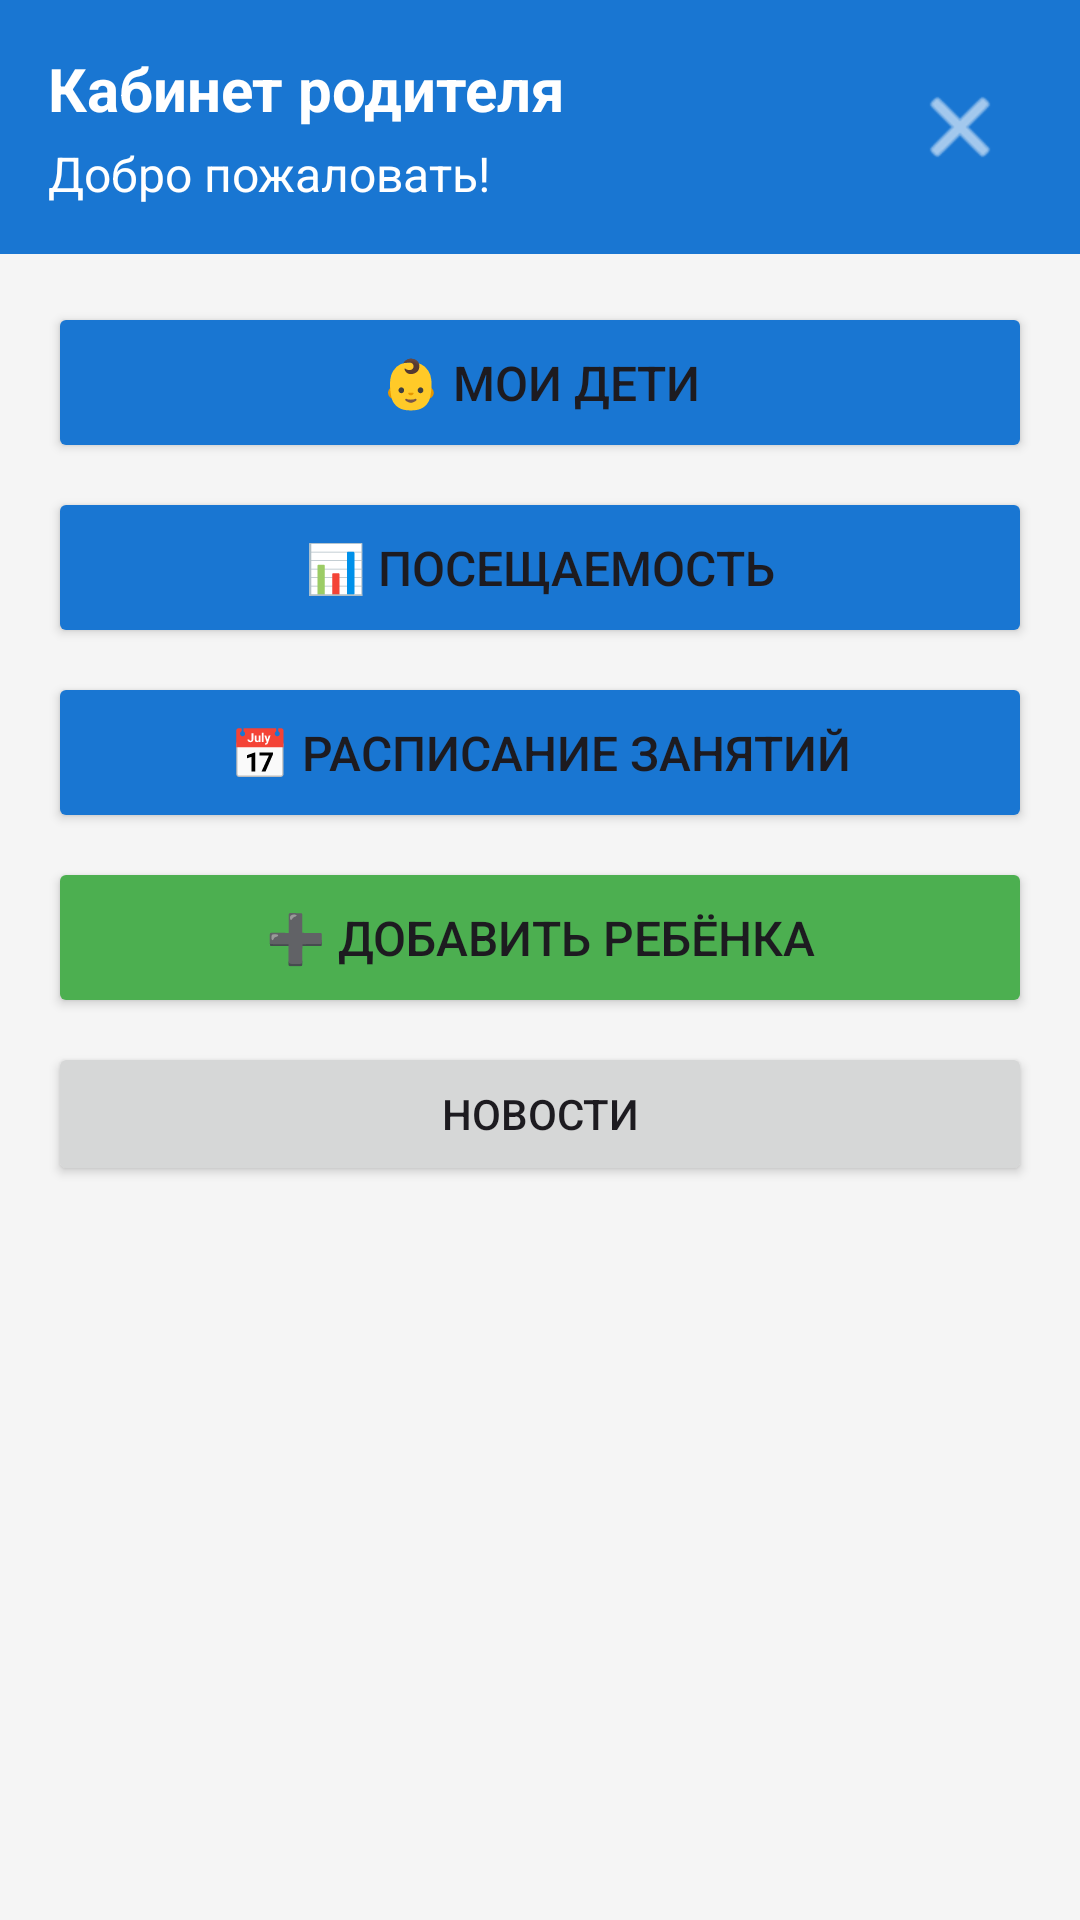

Icon bounding boxes for this 1080 x 1920 phone screenshot, format (x1, y1, x2, y2):
Выход: (930, 97, 990, 157)
